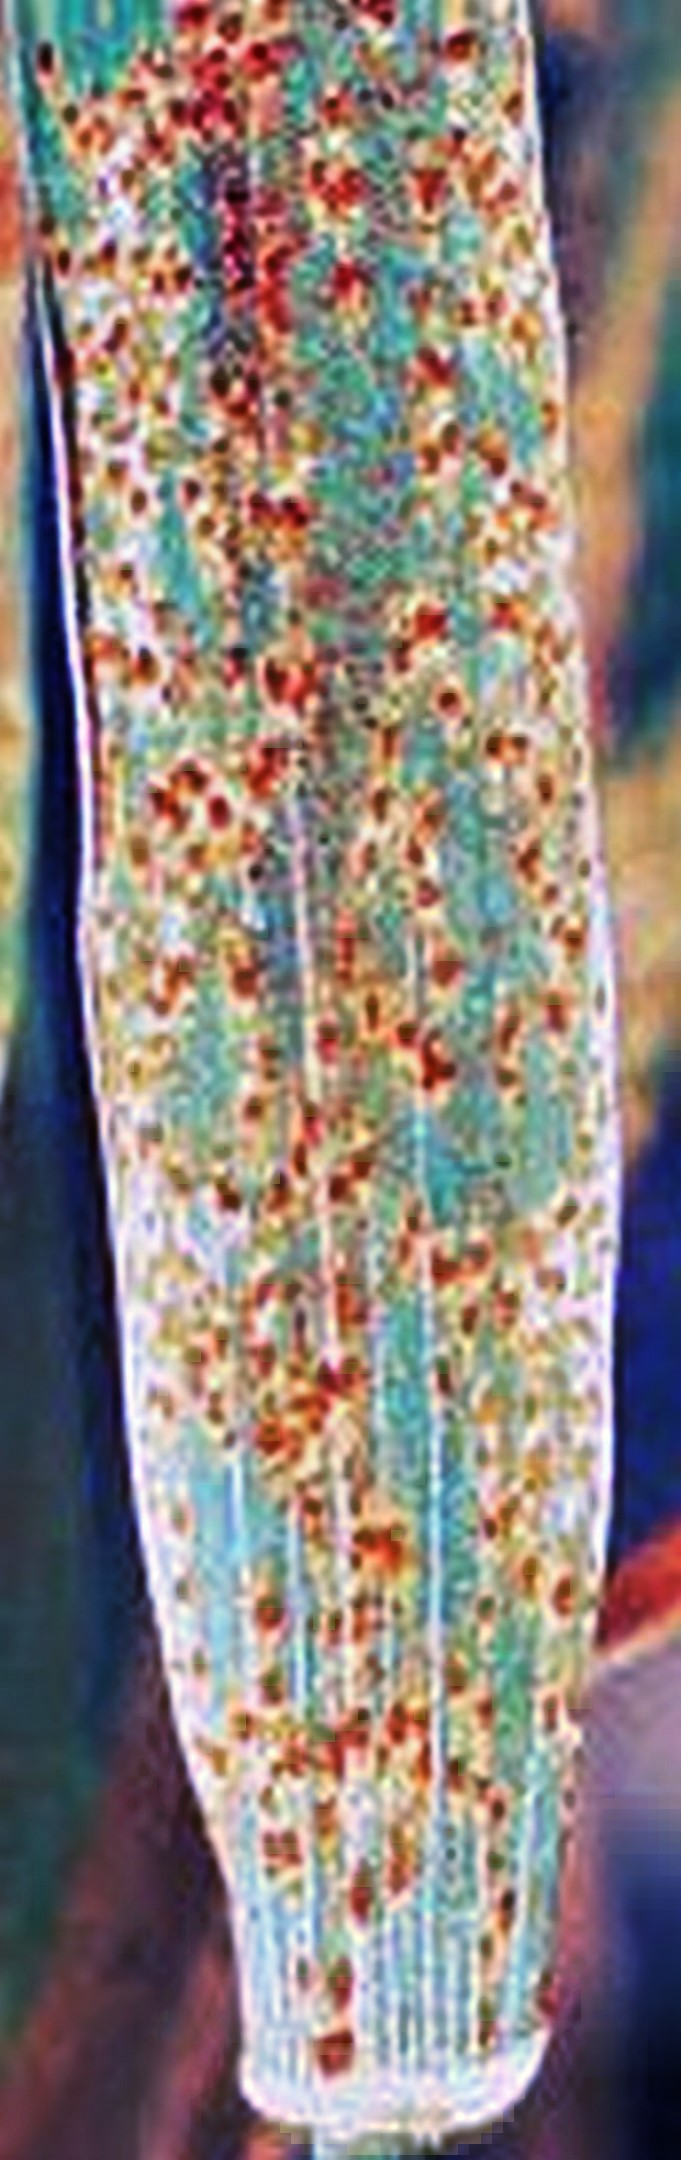Leaf Rust: (45, 136, 662, 1827)
